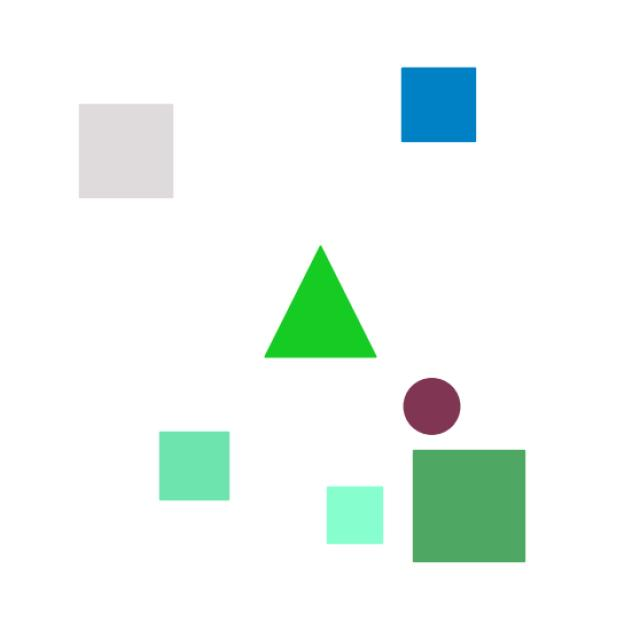Circle: (392, 366, 478, 444)
square: (234, 229, 391, 366), (406, 440, 548, 576), (64, 96, 194, 212), (378, 52, 498, 153), (150, 427, 247, 522), (314, 477, 391, 558)
